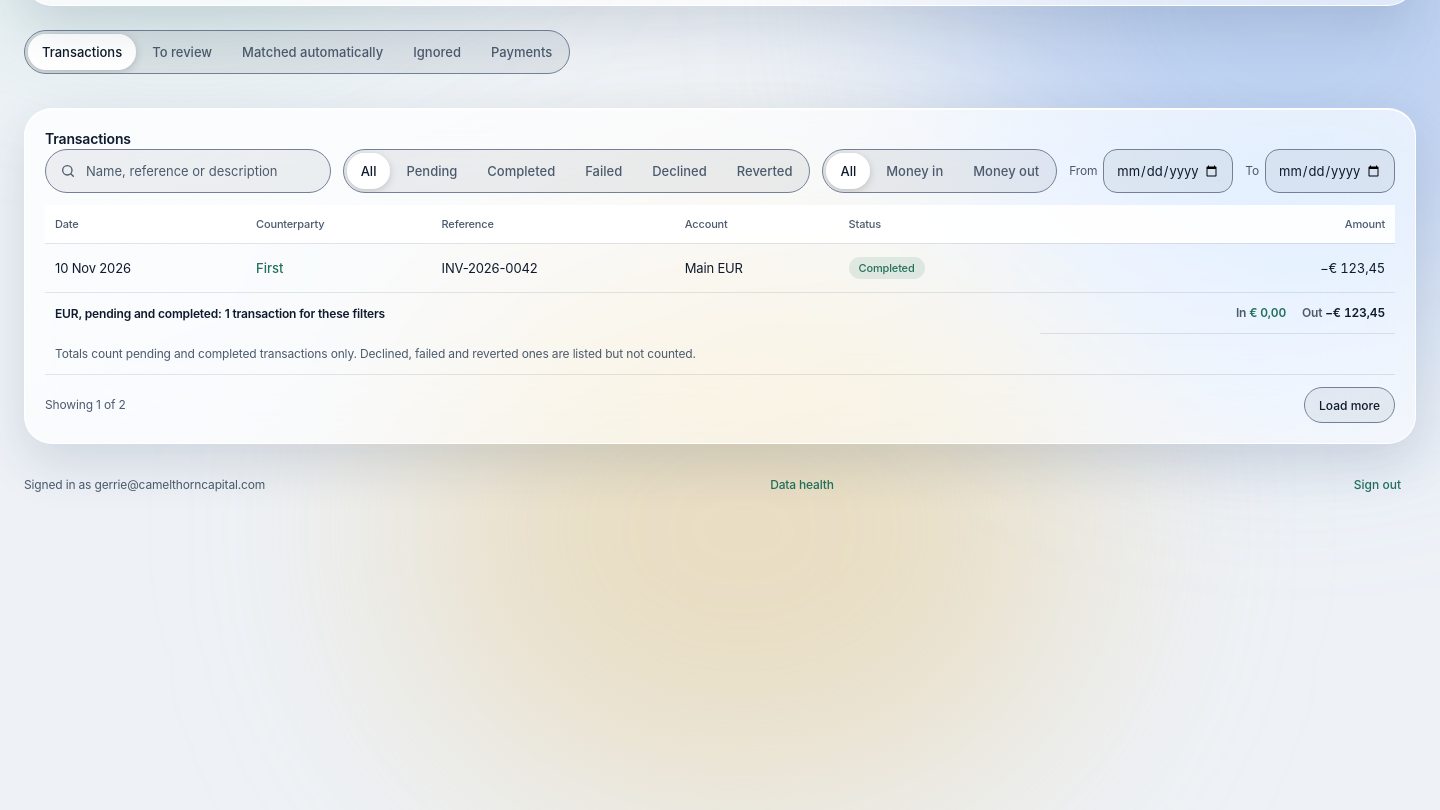
Test case: Bank: paging and requests › loads the next page with the cursor and appends
(page scrolled)
Expected: the text "Showing 1 of 2" is shown, [45, 397, 126, 413]
Click the button "Load more" at (1350, 405), box [1304, 387, 1395, 423]
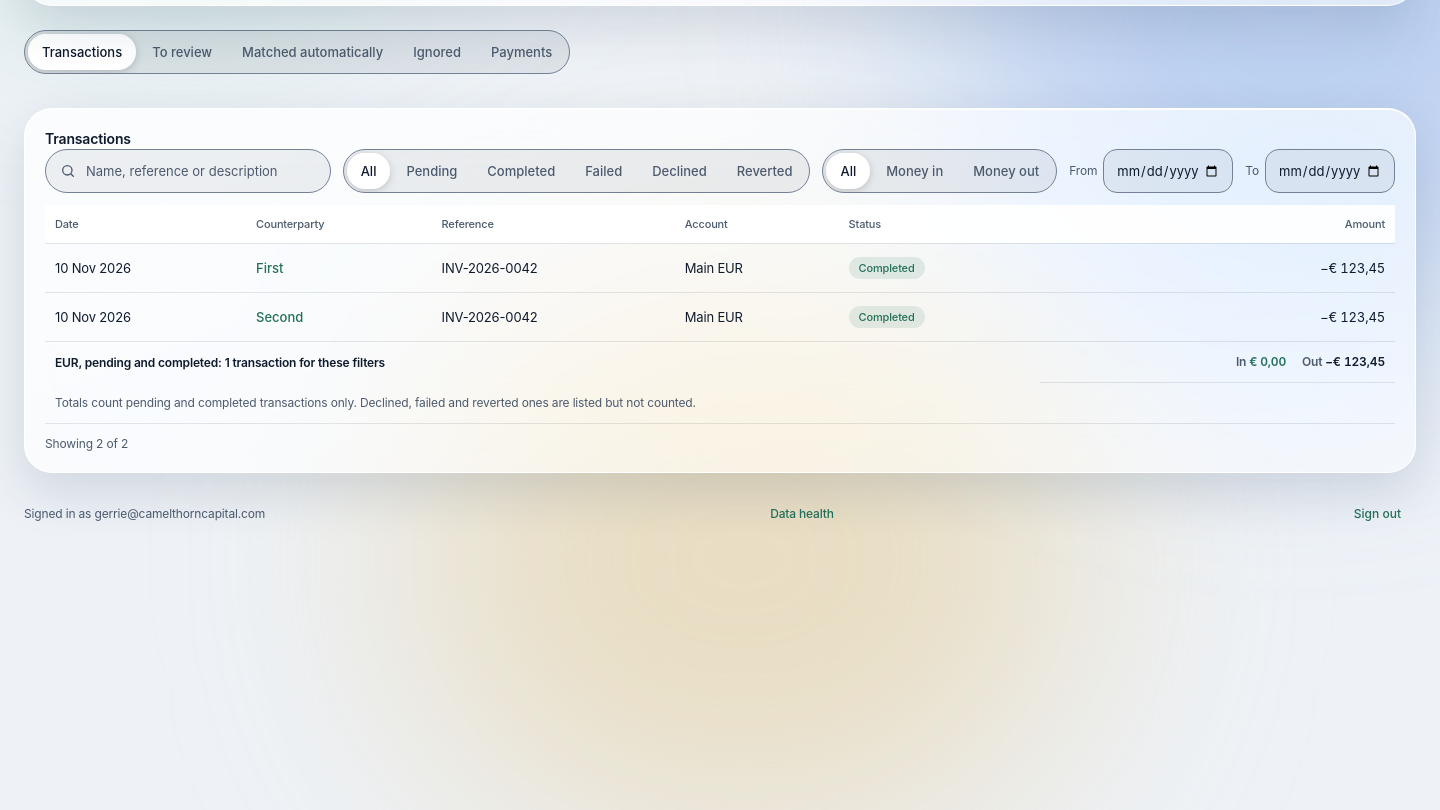
Expected: the button "Second" is shown, [256, 305, 303, 329]
Expected: the text "Showing 2 of 2" is shown, [45, 436, 128, 452]
Expected: the button "Load more" is gone
